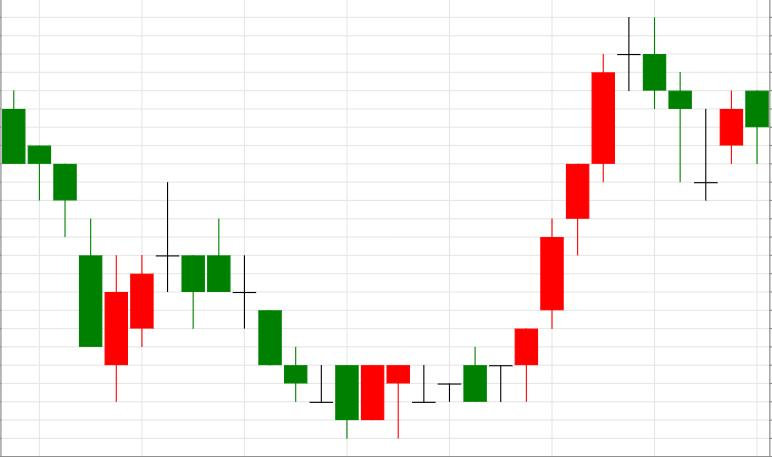evening_star_fall: (489, 16, 666, 402)
